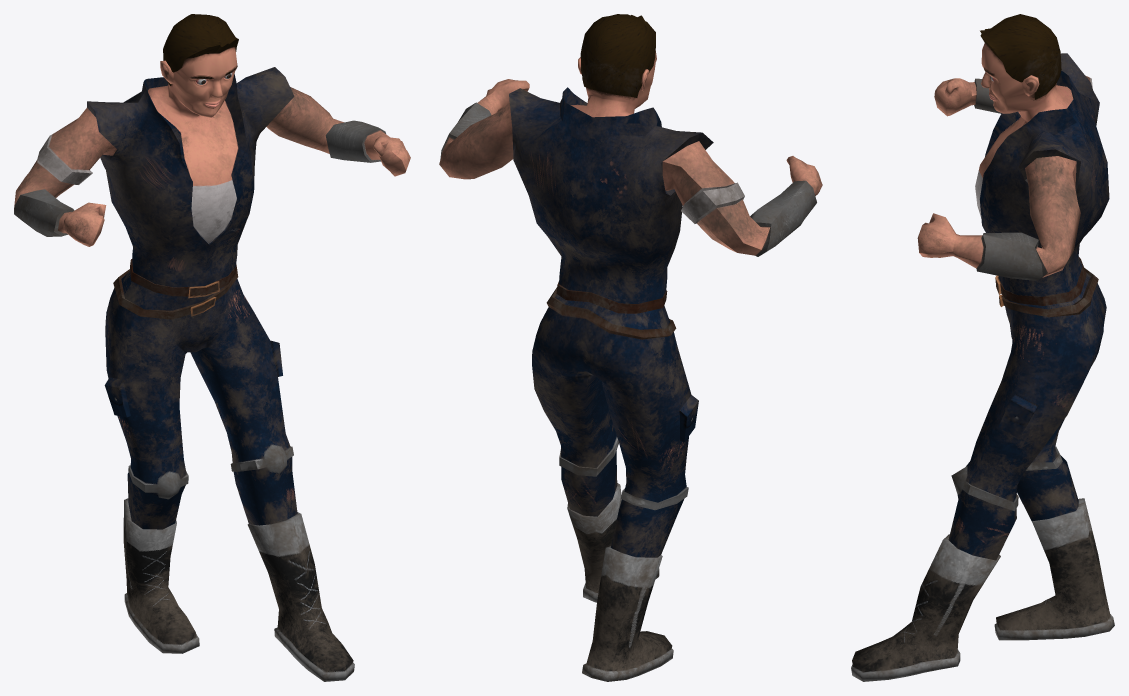
Rendered from Anim_ataque_d3_jugador.0049.obj.
3 views of the same model, side by side, from view 1: azimuth 30°, elevation 25°; view 2: azimuth 150°, elevation 25°; view 3: azimuth 270°, elevation 25° (orthographic). The views are drawn at different scales.
Visible parts, largest first — view 1: polySurface1; view 2: polySurface1; view 3: polySurface1.
Boxes of the visible parts, x1=… form: polySurface1: x1=14, y1=14, x2=410, y2=681; polySurface1: x1=439, y1=14, x2=822, y2=681; polySurface1: x1=851, y1=14, x2=1114, y2=681.
Size of the model in its own units: 5.48 by 9.48 by 3.6.
